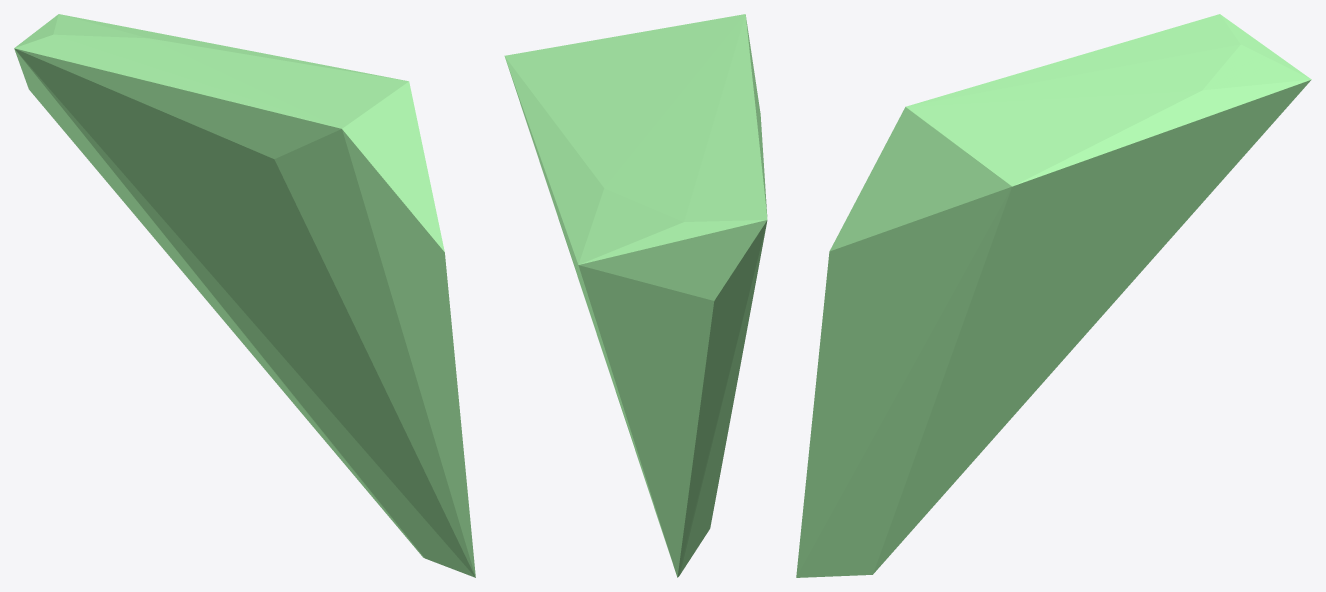
File: linkhou_robot_base_coll_22.dae
3 views of the same model, side by side, from view 1: azimuth 30°, elevation 25°; view 2: azimuth 150°, elevation 25°; view 3: azimuth 270°, elevation 25° (orthographic). The views are drawn at different scales.
Parts seen in each view (by area): view 1: Node_0000029808436A60; view 2: Node_0000029808436A60; view 3: Node_0000029808436A60.
Boxes of the visible parts, x1=… form: Node_0000029808436A60: x1=14, y1=14, x2=475, y2=577; Node_0000029808436A60: x1=504, y1=14, x2=767, y2=577; Node_0000029808436A60: x1=796, y1=14, x2=1311, y2=577.
Size of the model in its own units: 0.0301 by 0.0434 by 0.0457.
